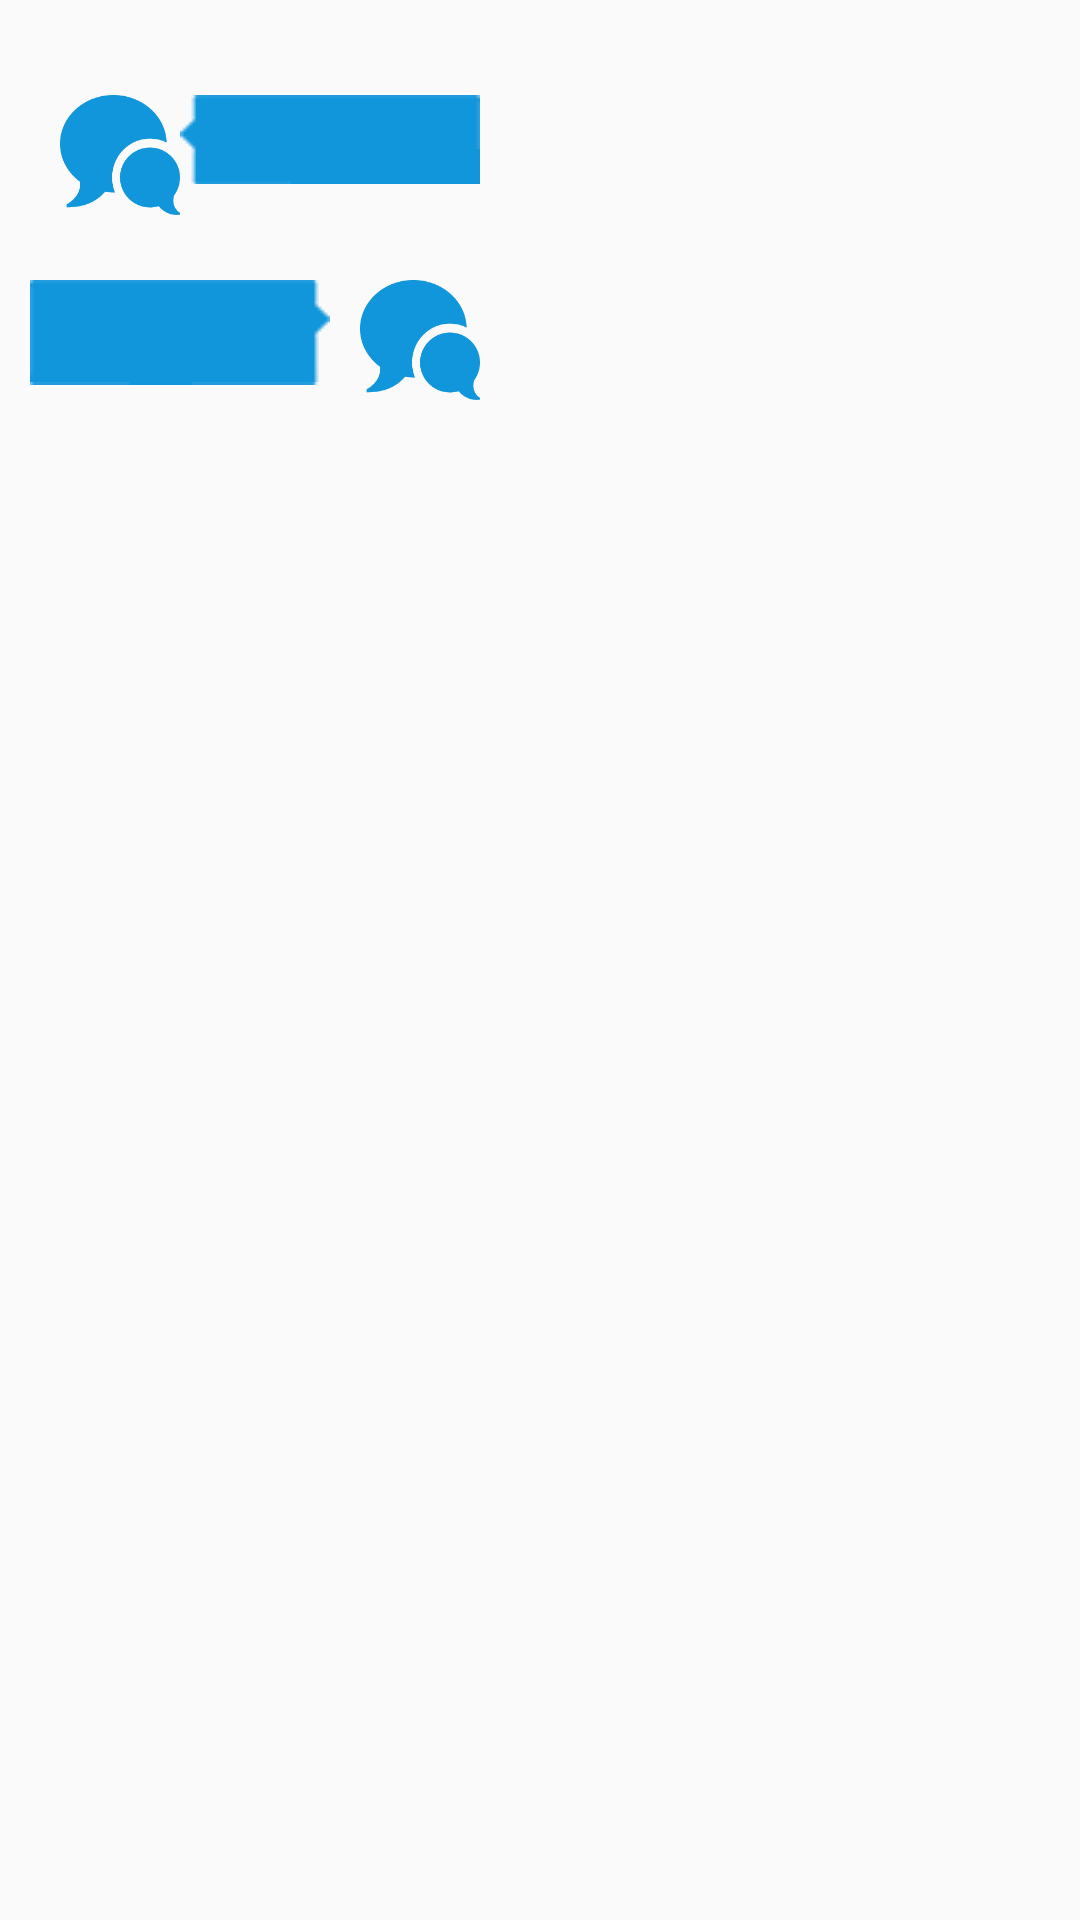

Named icons in this screenshot (1080px x 1920px) and their centers, (x,y):
bubbles: (120,155), (420,340)
